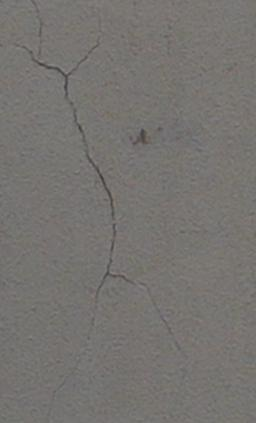fissura: (3, 6, 190, 407)
